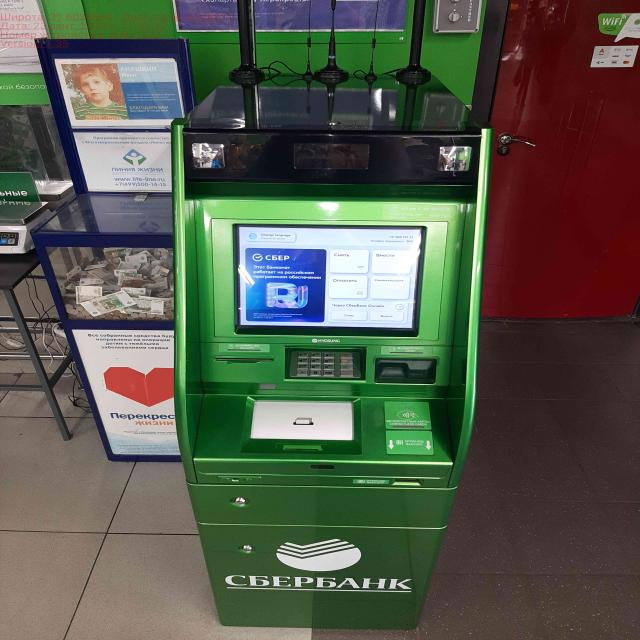bank: (166, 71, 487, 634)
